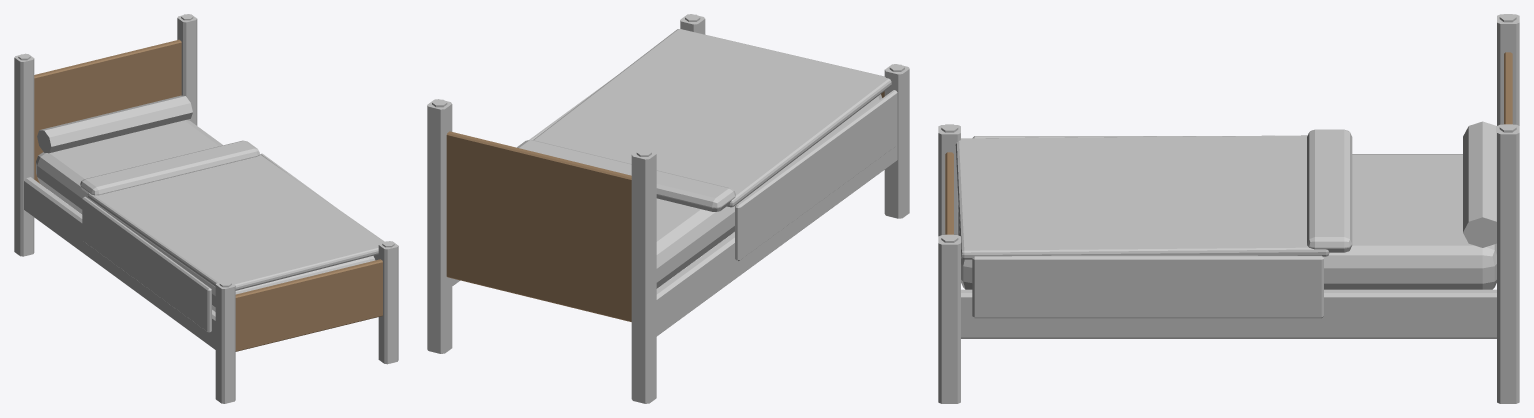
File: furn_bed.glb
3 renders of one model, left to right at view 1: azimuth 30°, elevation 25°; view 2: azimuth 150°, elevation 25°; view 3: azimuth 270°, elevation 25°, orthographic. The views are drawn at different scales.
Visible parts, largest first — view 1: furn_bed; view 2: furn_bed; view 3: furn_bed.
Part boxes in pixels (<box>): furn_bed: <box>14,14,398,403</box>; furn_bed: <box>427,14,909,403</box>; furn_bed: <box>938,14,1519,403</box>.
Bounding box in the file's own units: 1.02 × 1.06 × 2.05.
